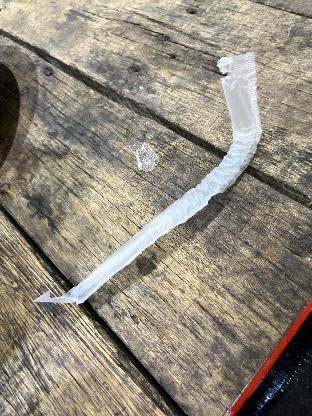Others: (37, 46, 261, 314)
